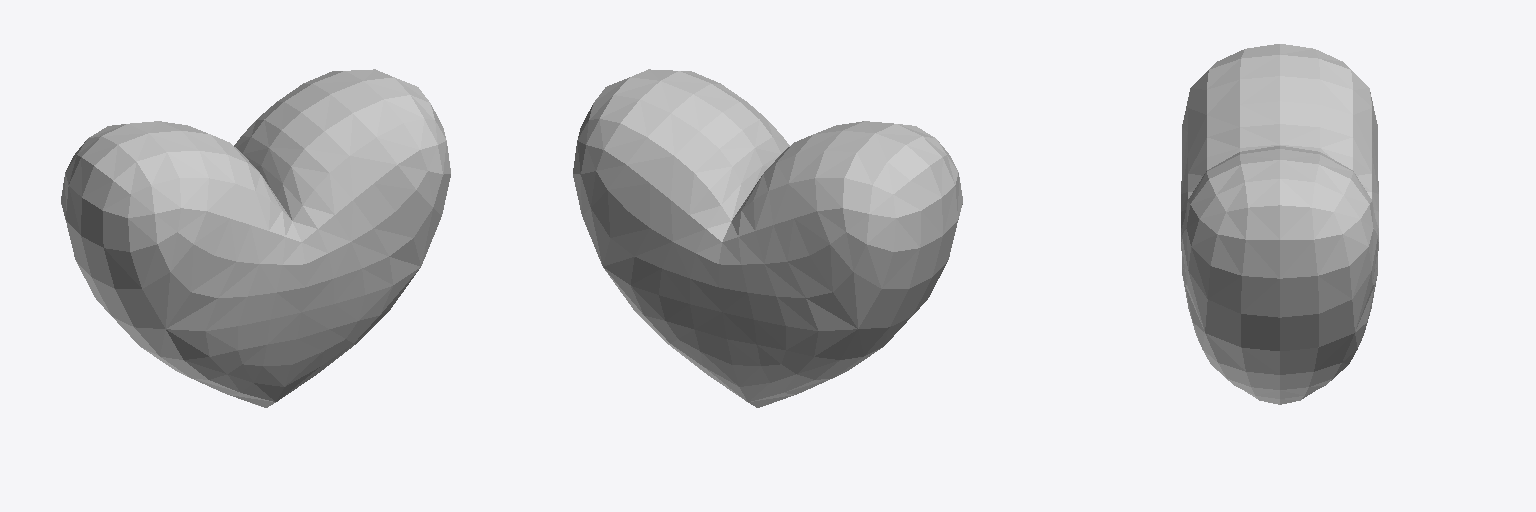
Rendered from heart.obj.
3 views of the same model, side by side, from view 1: azimuth 30°, elevation 25°; view 2: azimuth 150°, elevation 25°; view 3: azimuth 270°, elevation 25° (orthographic).
Parts seen in each view (by area): view 1: Heart_Cube.003; view 2: Heart_Cube.003; view 3: Heart_Cube.003.
Part boxes in pixels (x1,y1,x2,y2): Heart_Cube.003: (61,69,450,407); Heart_Cube.003: (573,69,962,407); Heart_Cube.003: (1181,44,1378,404).
Size of the model in its own units: 0.8019 by 0.6522 by 0.3927.